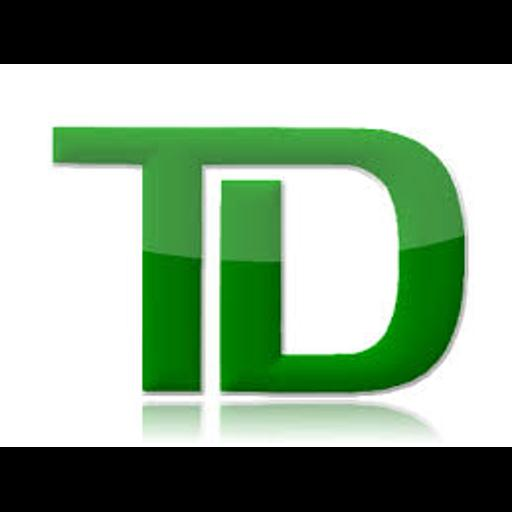TD Bank Group: (0, 64, 512, 447)
